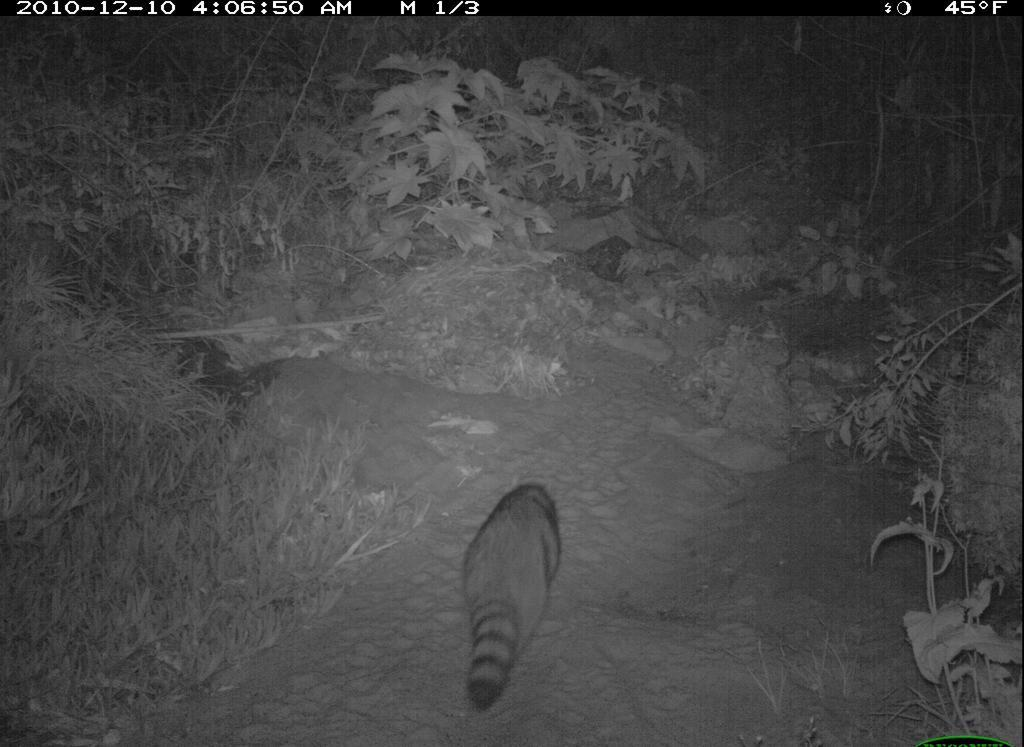raccoon: (457, 479, 571, 712)
